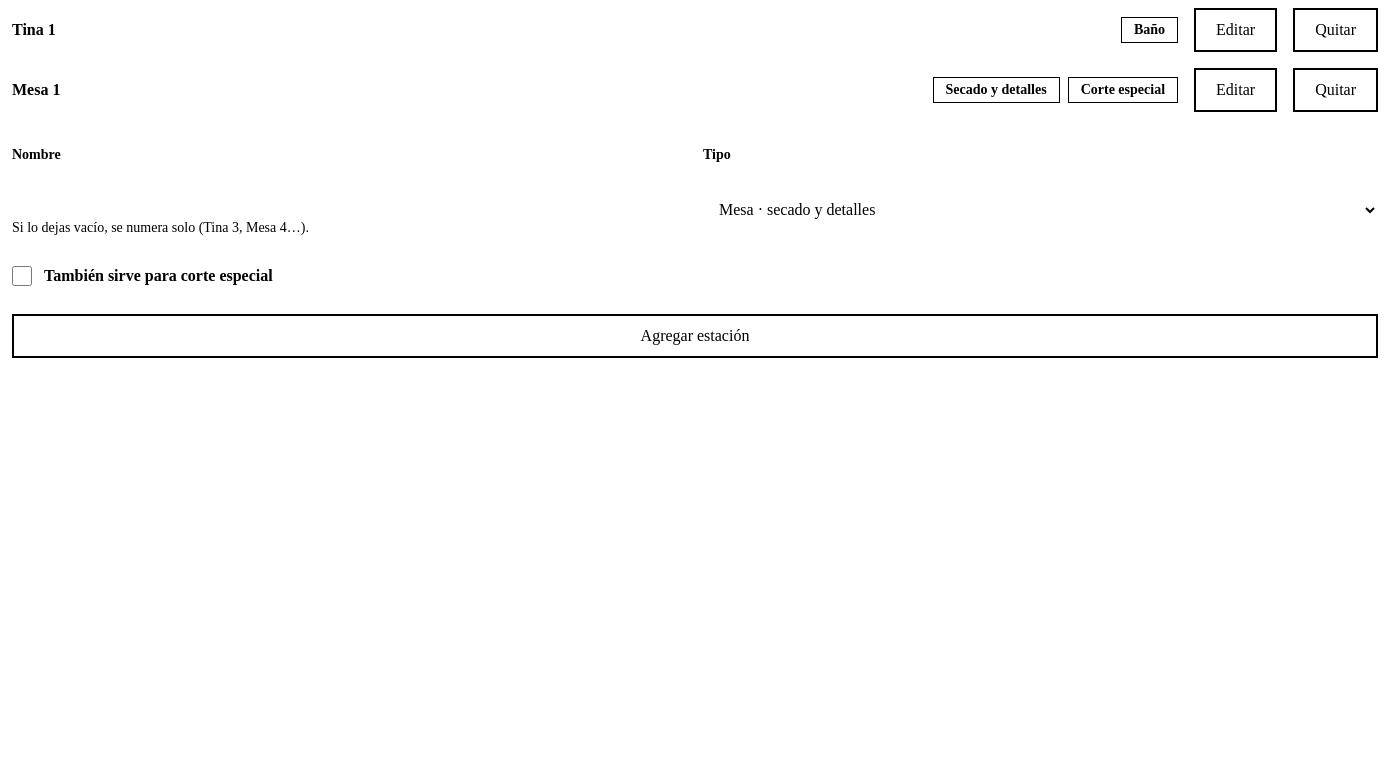
Test case: estaciones › la casilla de corte especial solo aparece para mesas; se edita en su panel
Select "Tina · baño" in the dropdown labelled "Tipo" at (1040, 210), box [703,182,1378,238]
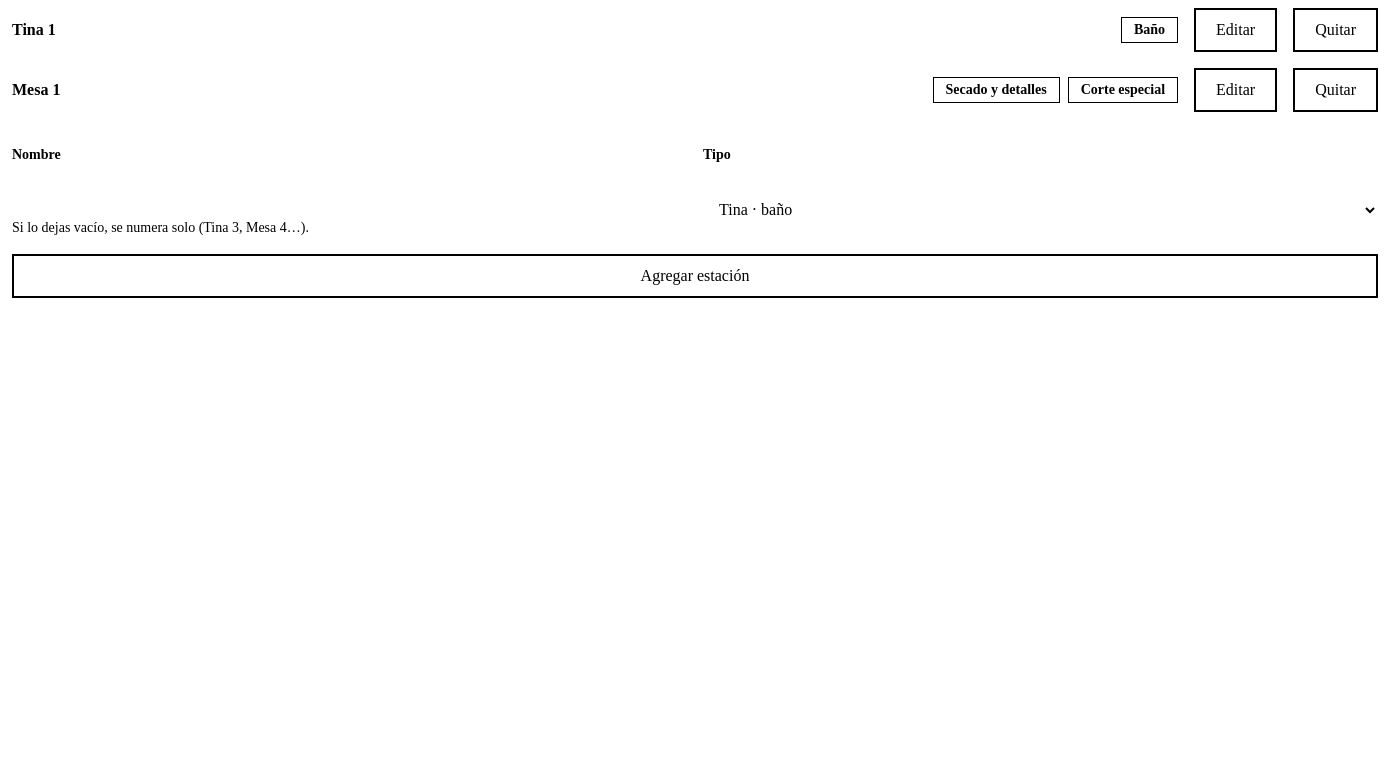
Expected: no labels "También sirve para corte especial" are shown
Select "Mesa · secado y detalles" in the dropdown labelled "Tipo" at (1040, 210), box [703,182,1378,238]
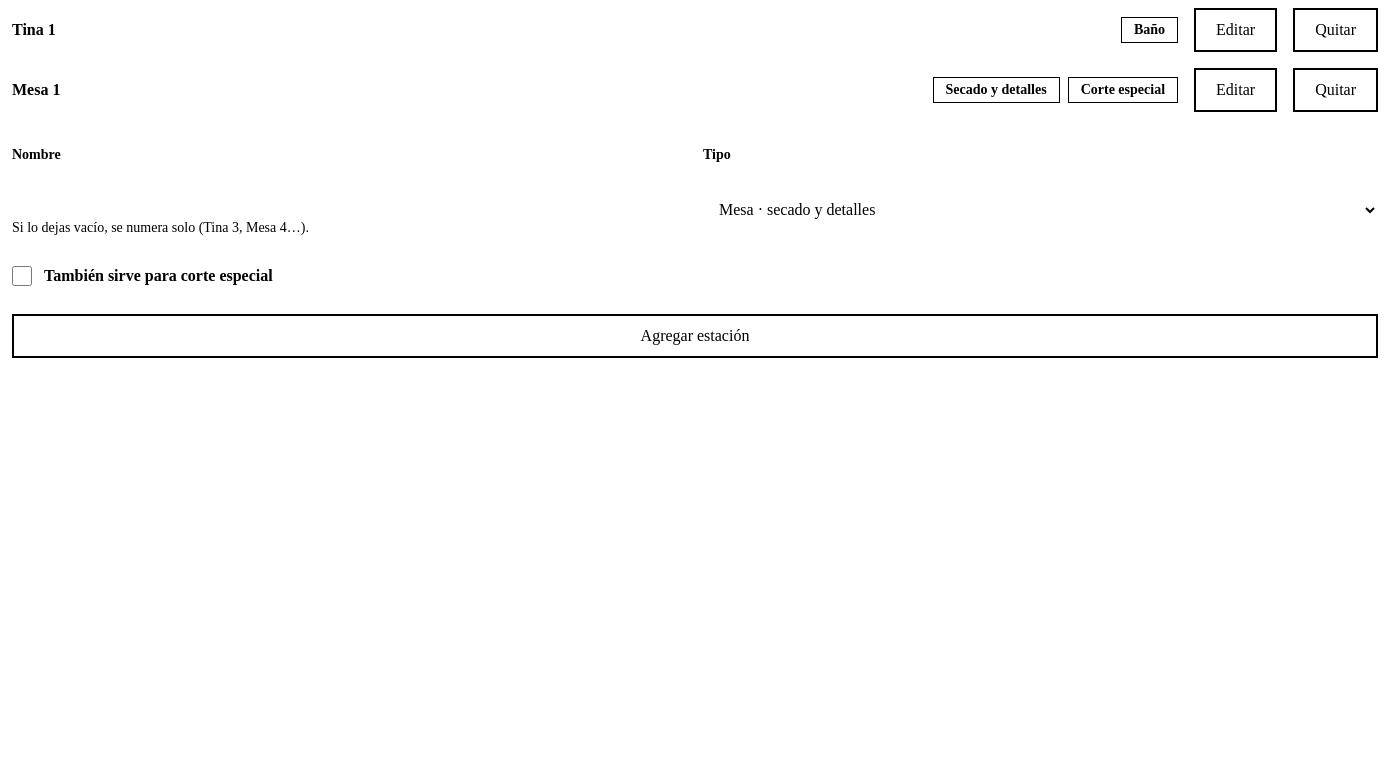
Expected: the checkbox labelled "También sirve para corte especial" is shown, [12,266,32,286]
Click the button "Editar" in the row of "Secado y detalles" at (1236, 90), box [1194,68,1277,112]
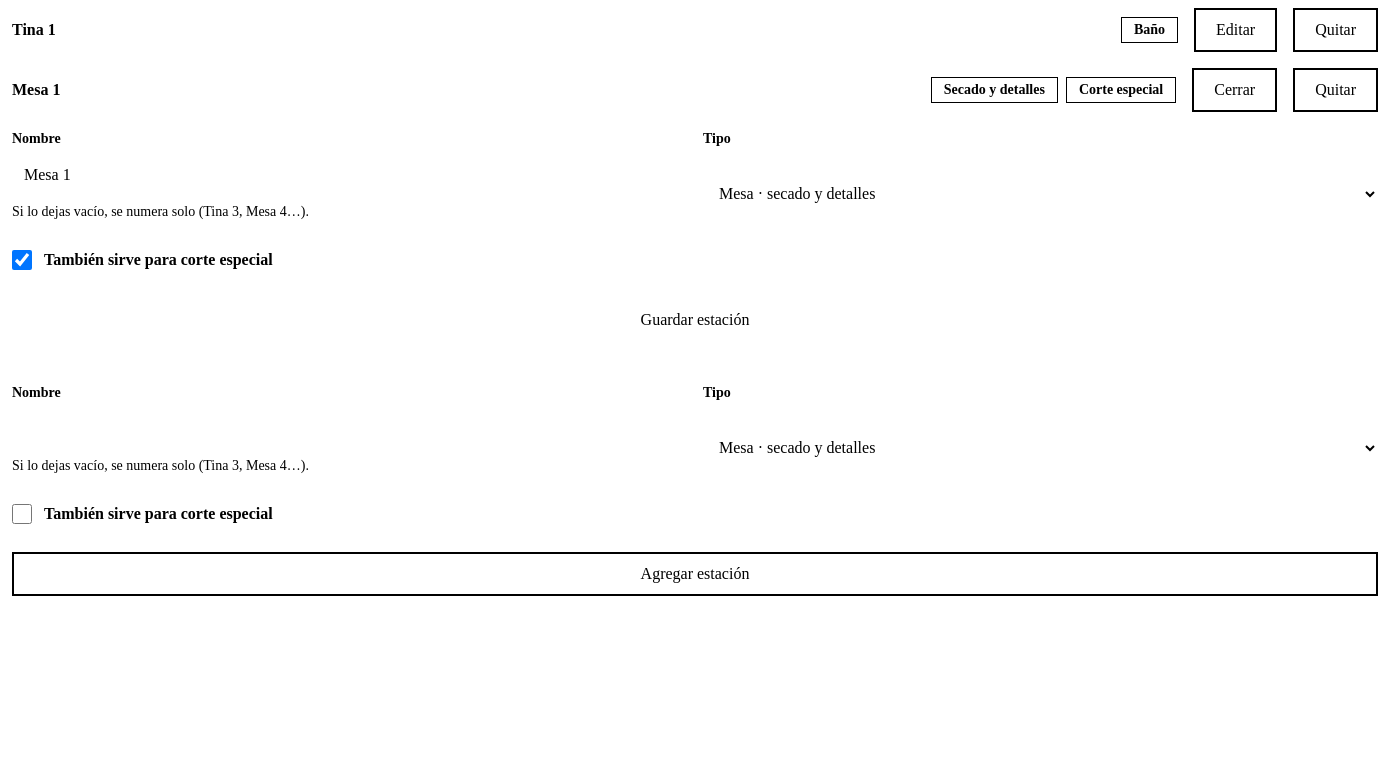
Expected: the button "Cerrar" is expanded, [1192,68,1277,112]
Replace the text in the field labelled "Nombre" below "Mesa 1" with "Mesa grande" at (350, 175), box [12,153,687,197]
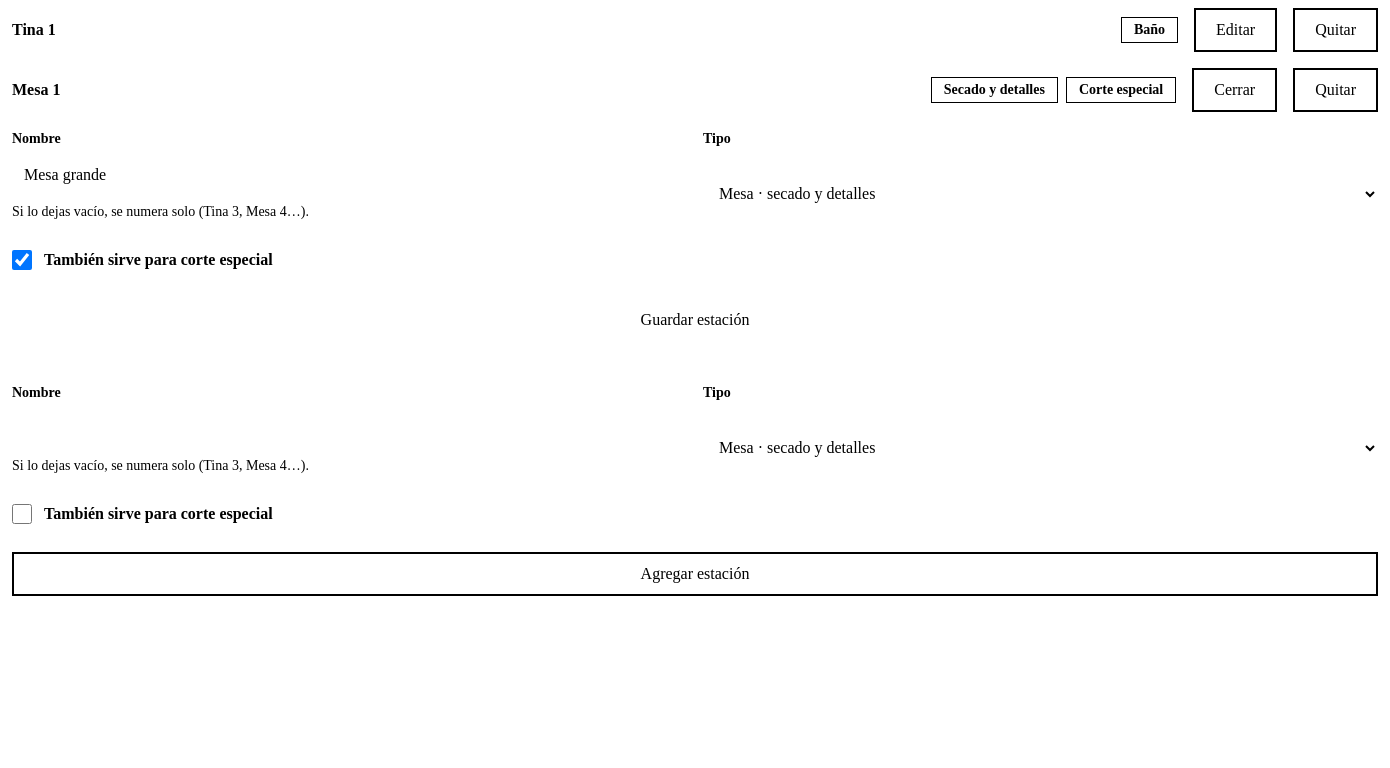
Click the button "Guardar estación" at (695, 320), box [12,298,1378,342]
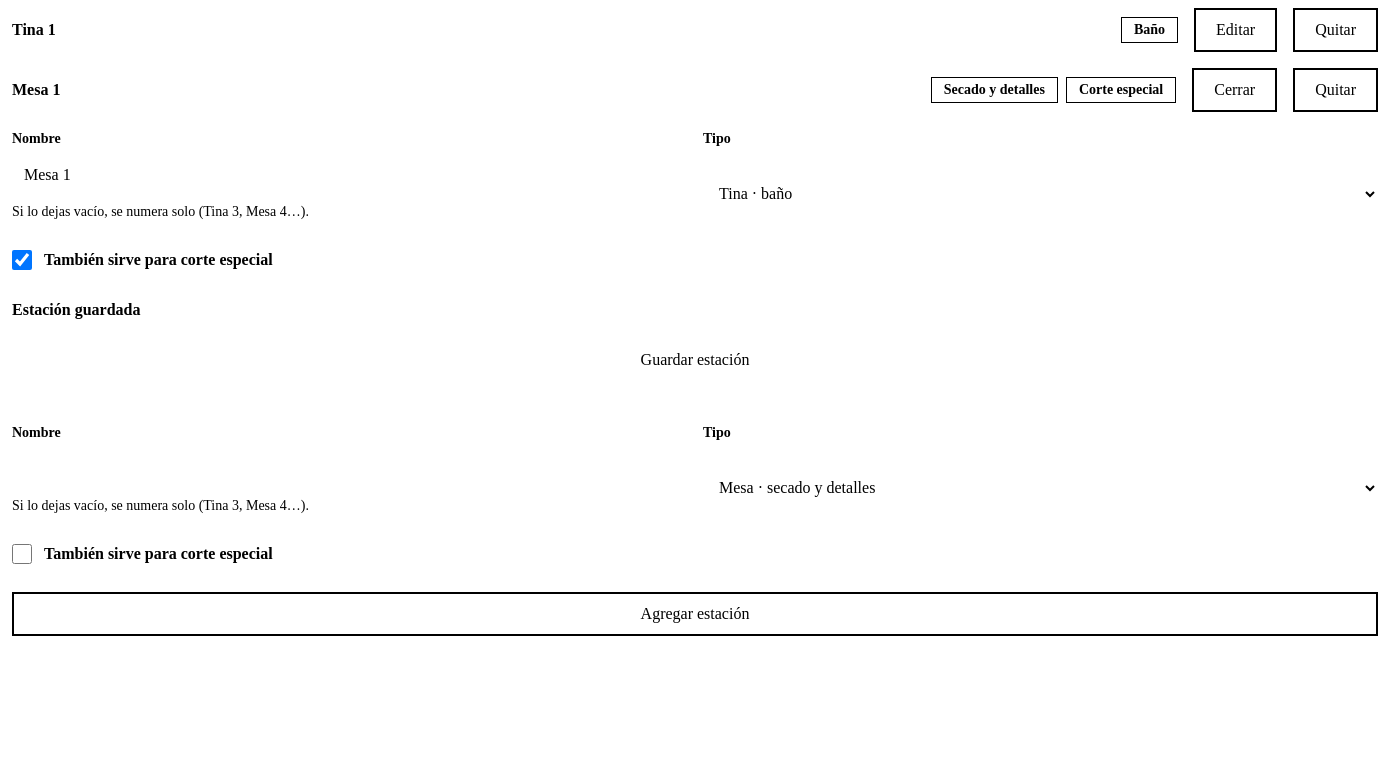
Expected: the text "Estación guardada" is shown, [12,301,140,318]
